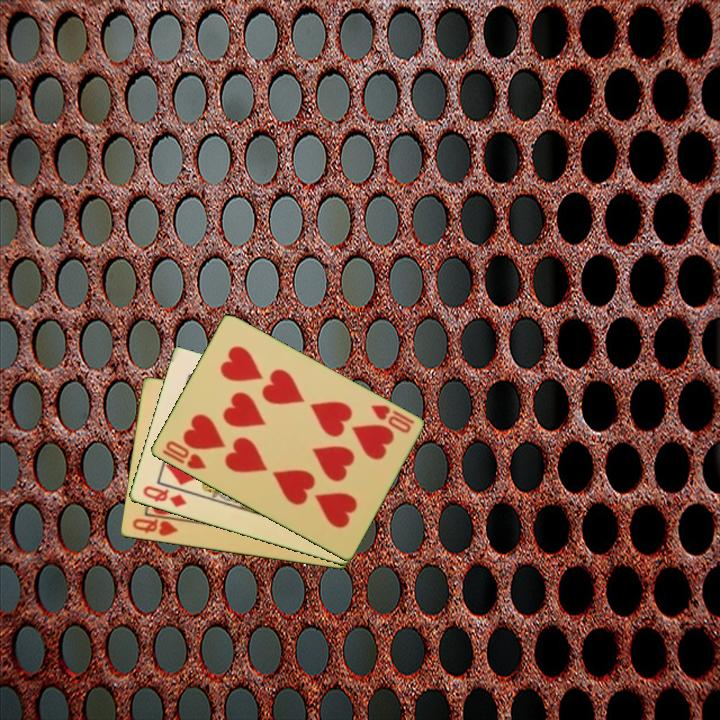10h: (366, 401, 417, 436), (162, 437, 209, 472)
Qd: (139, 482, 189, 511)
Qh: (129, 515, 181, 539)
